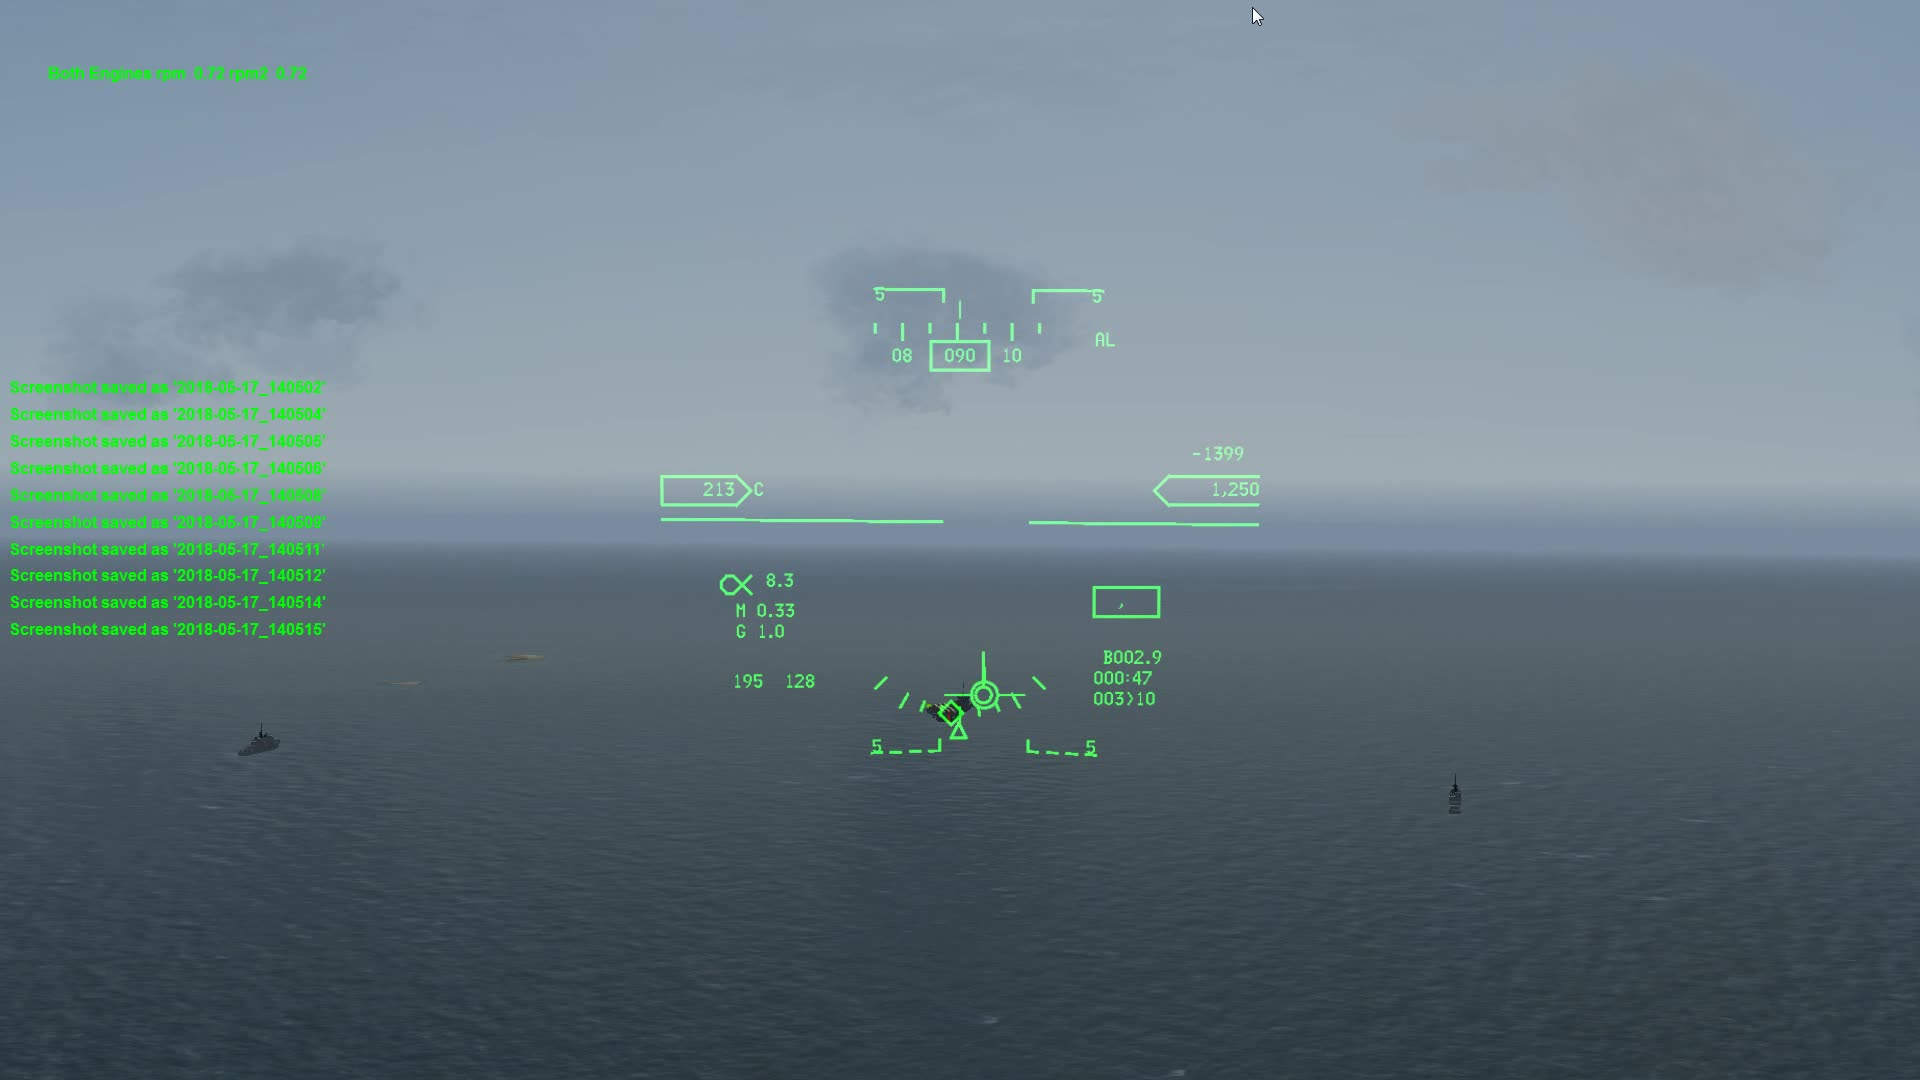speed vector: (943, 647, 1025, 709)
